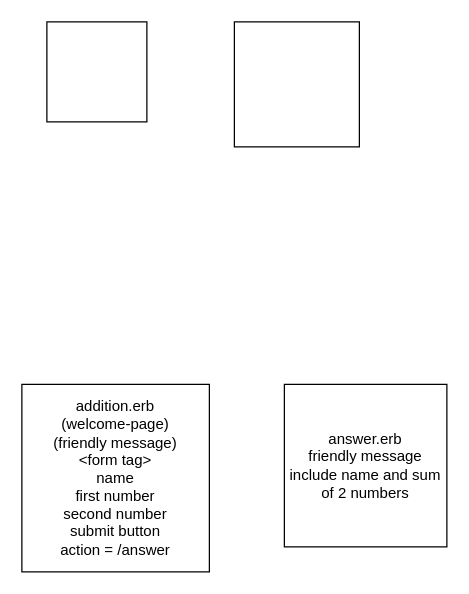
The diagram is 469 pixels wide and 594 high, and some of its shapes have lost their labels. Here are the shapes that lost their labels. From the top down, the centre of each, then its label:
At (96,71): "client".
At (296,84): "app.rb post /addition".
